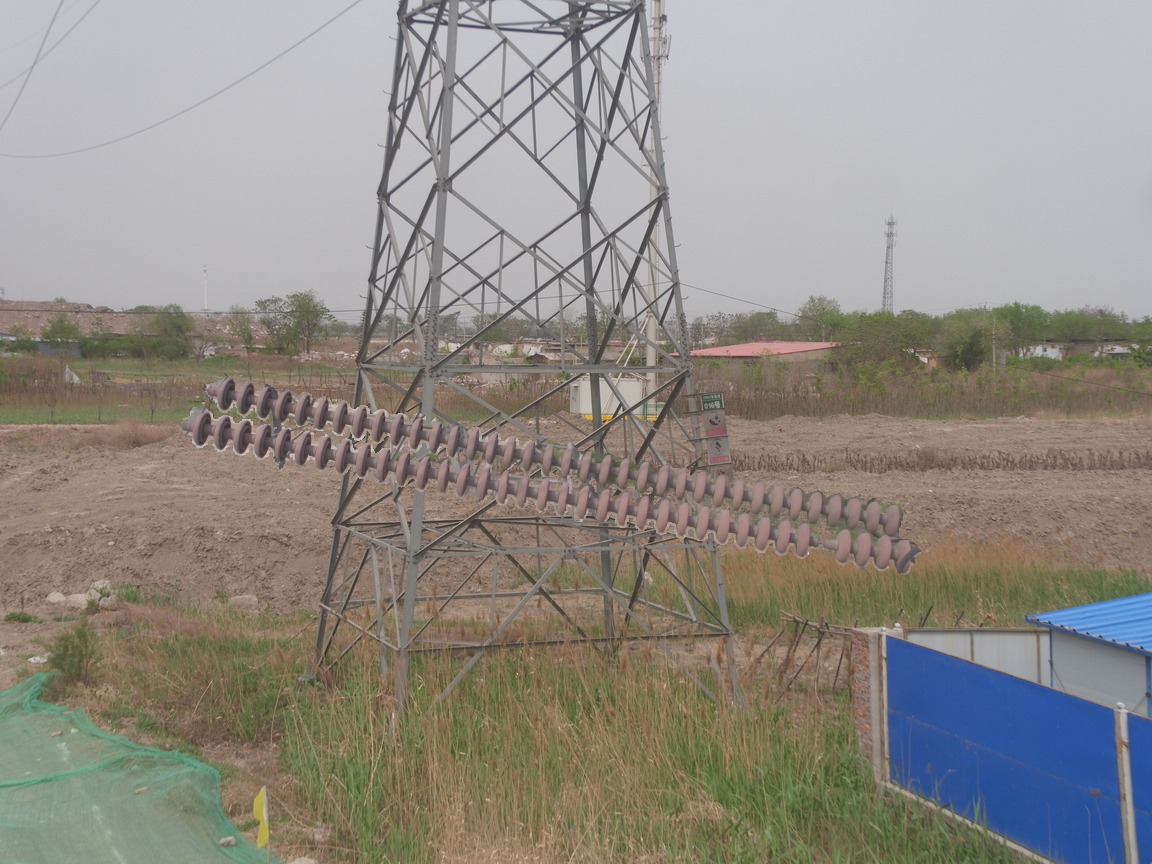defect: (788, 522, 860, 562)
